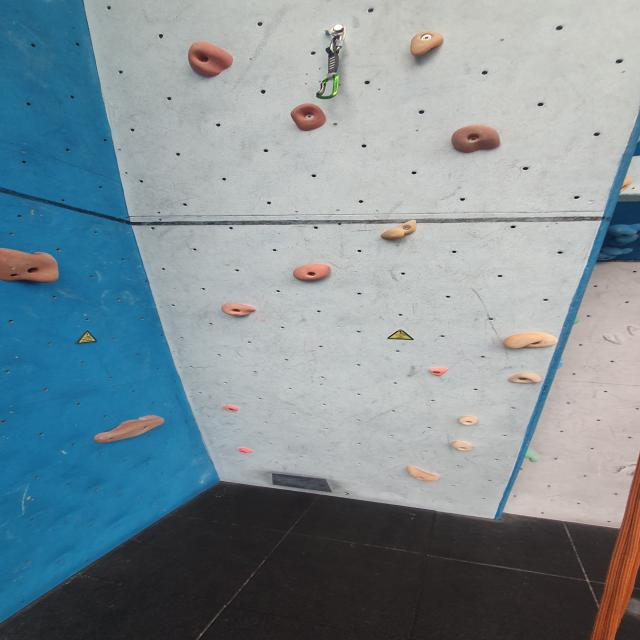Crimp: (404, 464, 442, 482), (505, 372, 544, 388), (426, 365, 451, 376), (218, 405, 244, 415), (236, 448, 256, 456)
Jug: (0, 250, 60, 289), (92, 414, 168, 444), (186, 41, 237, 78), (449, 125, 503, 155), (500, 333, 558, 353), (287, 104, 326, 132), (408, 32, 444, 58), (290, 264, 334, 284), (218, 304, 259, 319)
Pinch: (378, 219, 422, 242), (456, 416, 482, 428), (451, 441, 476, 452)
